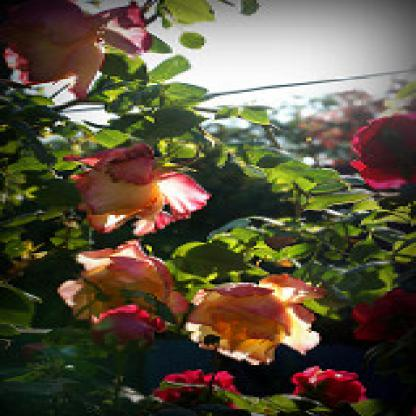Rose-Mawar: (67, 254, 326, 356), (61, 135, 216, 246), (153, 369, 378, 414), (344, 110, 414, 204), (349, 292, 414, 339)
